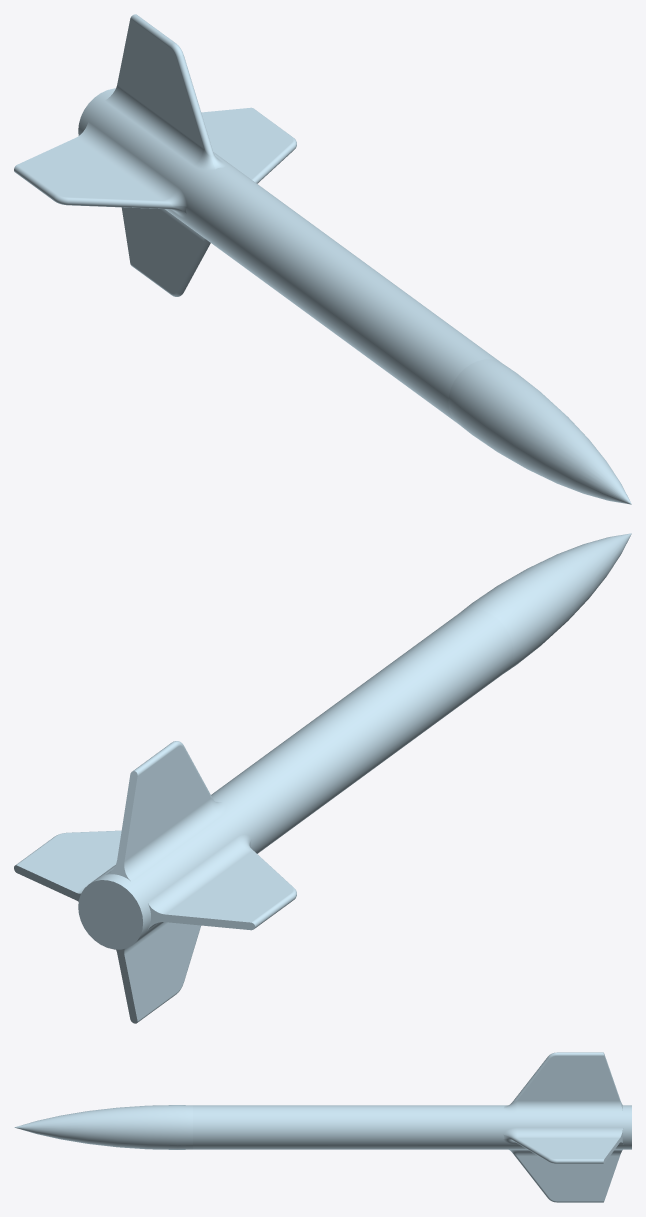
File: Rocket_Model.gltf
3 renders of one model, top to bottom at view 1: azimuth 30°, elevation 25°; view 2: azimuth 150°, elevation 25°; view 3: azimuth 270°, elevation 25°, orthographic. The views are drawn at different scales.
Parts seen in each view (by area): view 1: Part 1; view 2: Part 1; view 3: Part 1.
Part boxes in pixels (<box>): Part 1: <box>14,14,631,504</box>; Part 1: <box>14,533,631,1023</box>; Part 1: <box>14,1052,631,1202</box>.
Size of the model in its own units: 0.0582 by 0.0582 by 0.218.
